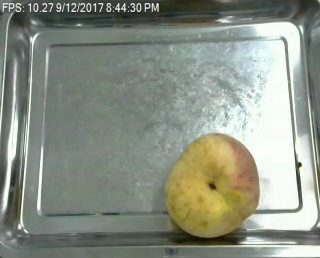Peach: (165, 132, 260, 238)
